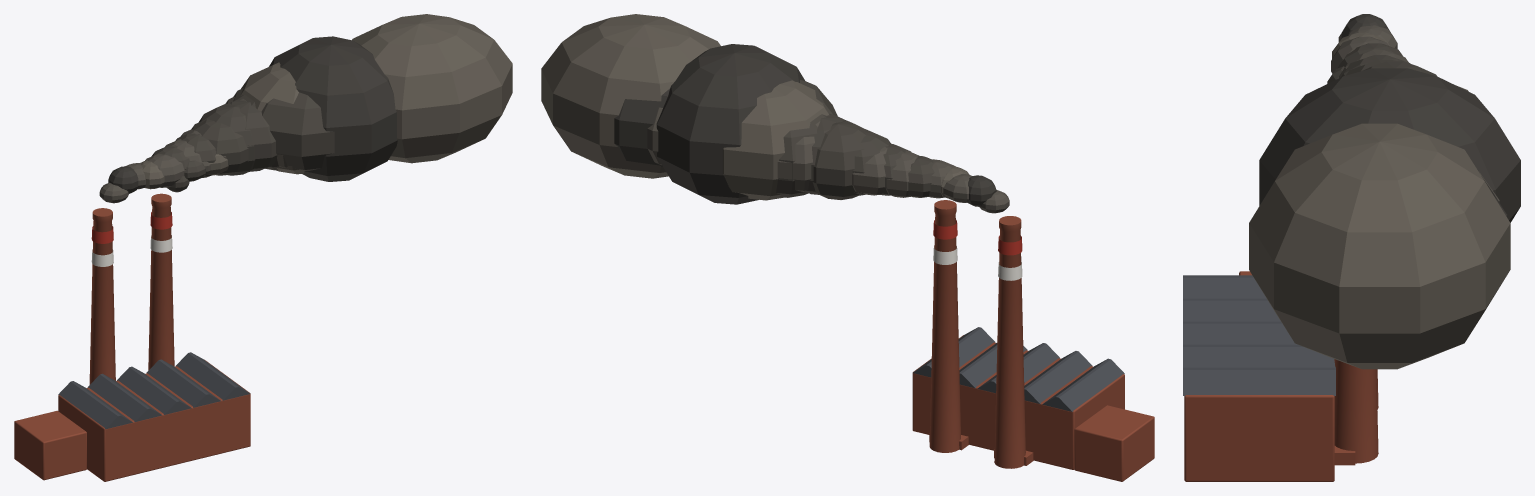
The model's file is factory_smoke.fbx.
3 renders of one model, left to right at view 1: azimuth 30°, elevation 25°; view 2: azimuth 150°, elevation 25°; view 3: azimuth 270°, elevation 25°, orthographic. The views are drawn at different scales.
Visible parts, largest first — view 1: factory_smoke; view 2: factory_smoke; view 3: factory_smoke.
Part boxes in pixels (left/top/right/bottom): factory_smoke: left=14, top=14, right=512, bottom=481; factory_smoke: left=541, top=14, right=1154, bottom=481; factory_smoke: left=1183, top=14, right=1520, bottom=481.
Bounding box in the file's own units: 136 × 84.09 × 49.44.
